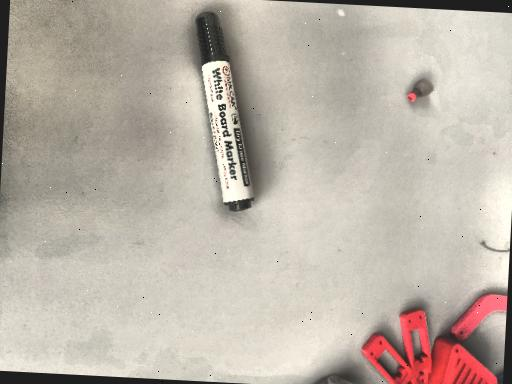marcador negro: (195, 12, 254, 212)
